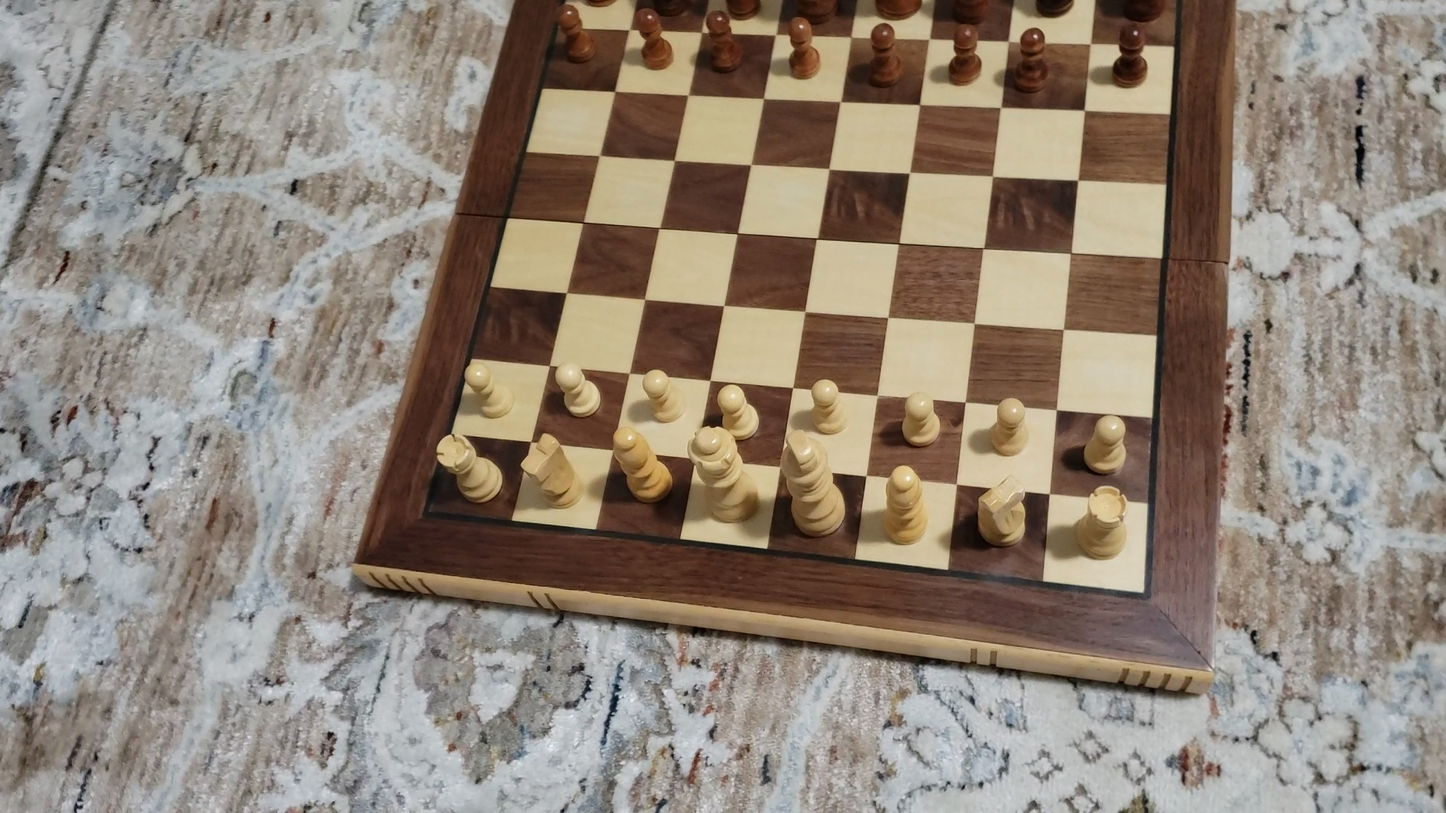black-pawn: (631, 8, 673, 71), (702, 8, 742, 74), (1110, 21, 1148, 89), (1011, 25, 1048, 94), (866, 20, 901, 88), (556, 2, 593, 65), (787, 15, 821, 81), (949, 23, 982, 86)
white-bishop: (608, 426, 675, 508), (881, 462, 931, 548)
white-king: (776, 426, 849, 541)
white-knight: (517, 431, 583, 513), (973, 471, 1032, 552)
white-pawn: (459, 360, 515, 422), (1081, 411, 1132, 478), (552, 361, 604, 421), (714, 381, 761, 442), (988, 394, 1031, 458), (899, 388, 943, 449), (808, 375, 848, 437), (639, 365, 680, 425)
white-queen: (685, 423, 762, 529)
white-rook: (435, 432, 506, 506), (1073, 482, 1133, 563)
